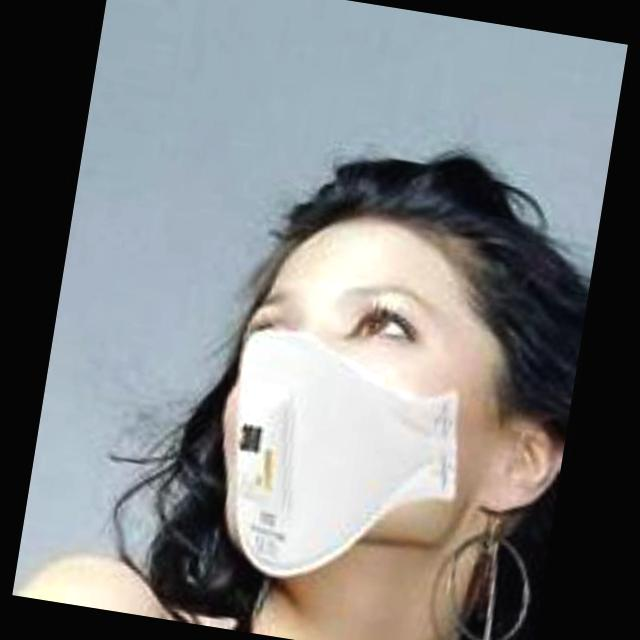suspicion: (190, 160, 561, 594)
